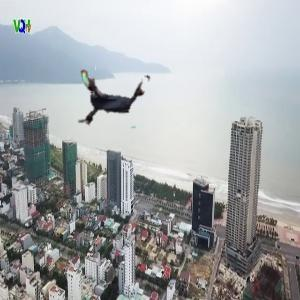drone: (67, 52, 156, 141)
